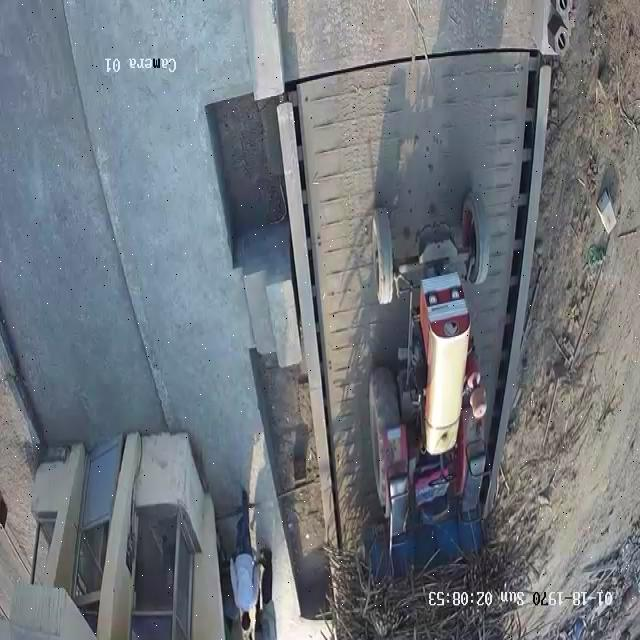Tratores - v5 YOLO V8L 2024-11-13: (370, 182, 489, 530)
